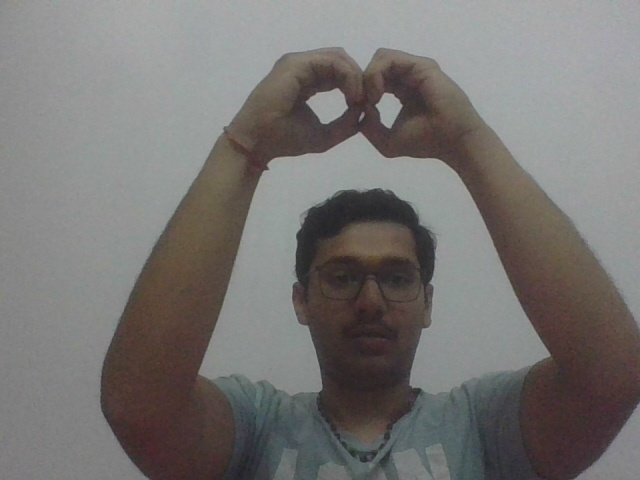B: (249, 42, 493, 163)
